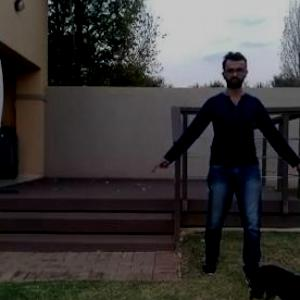land: (166, 58, 292, 277)
